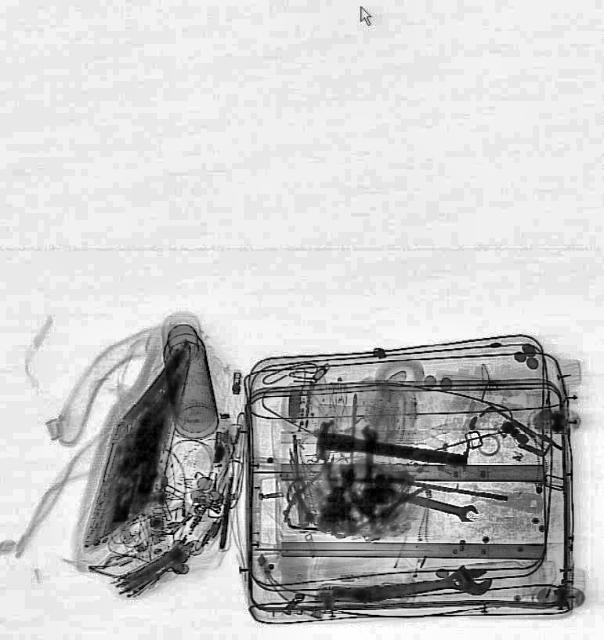Wrench: (348, 558, 492, 614), (397, 485, 479, 525)
